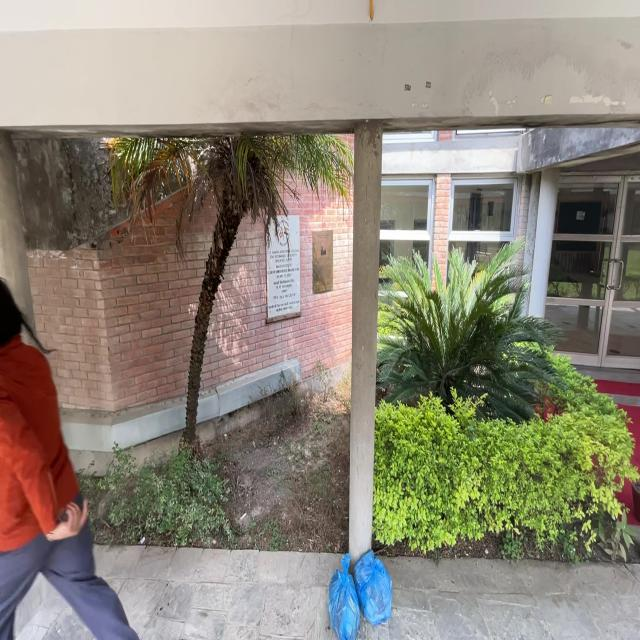garbage: (355, 543, 400, 627), (321, 568, 363, 640)
